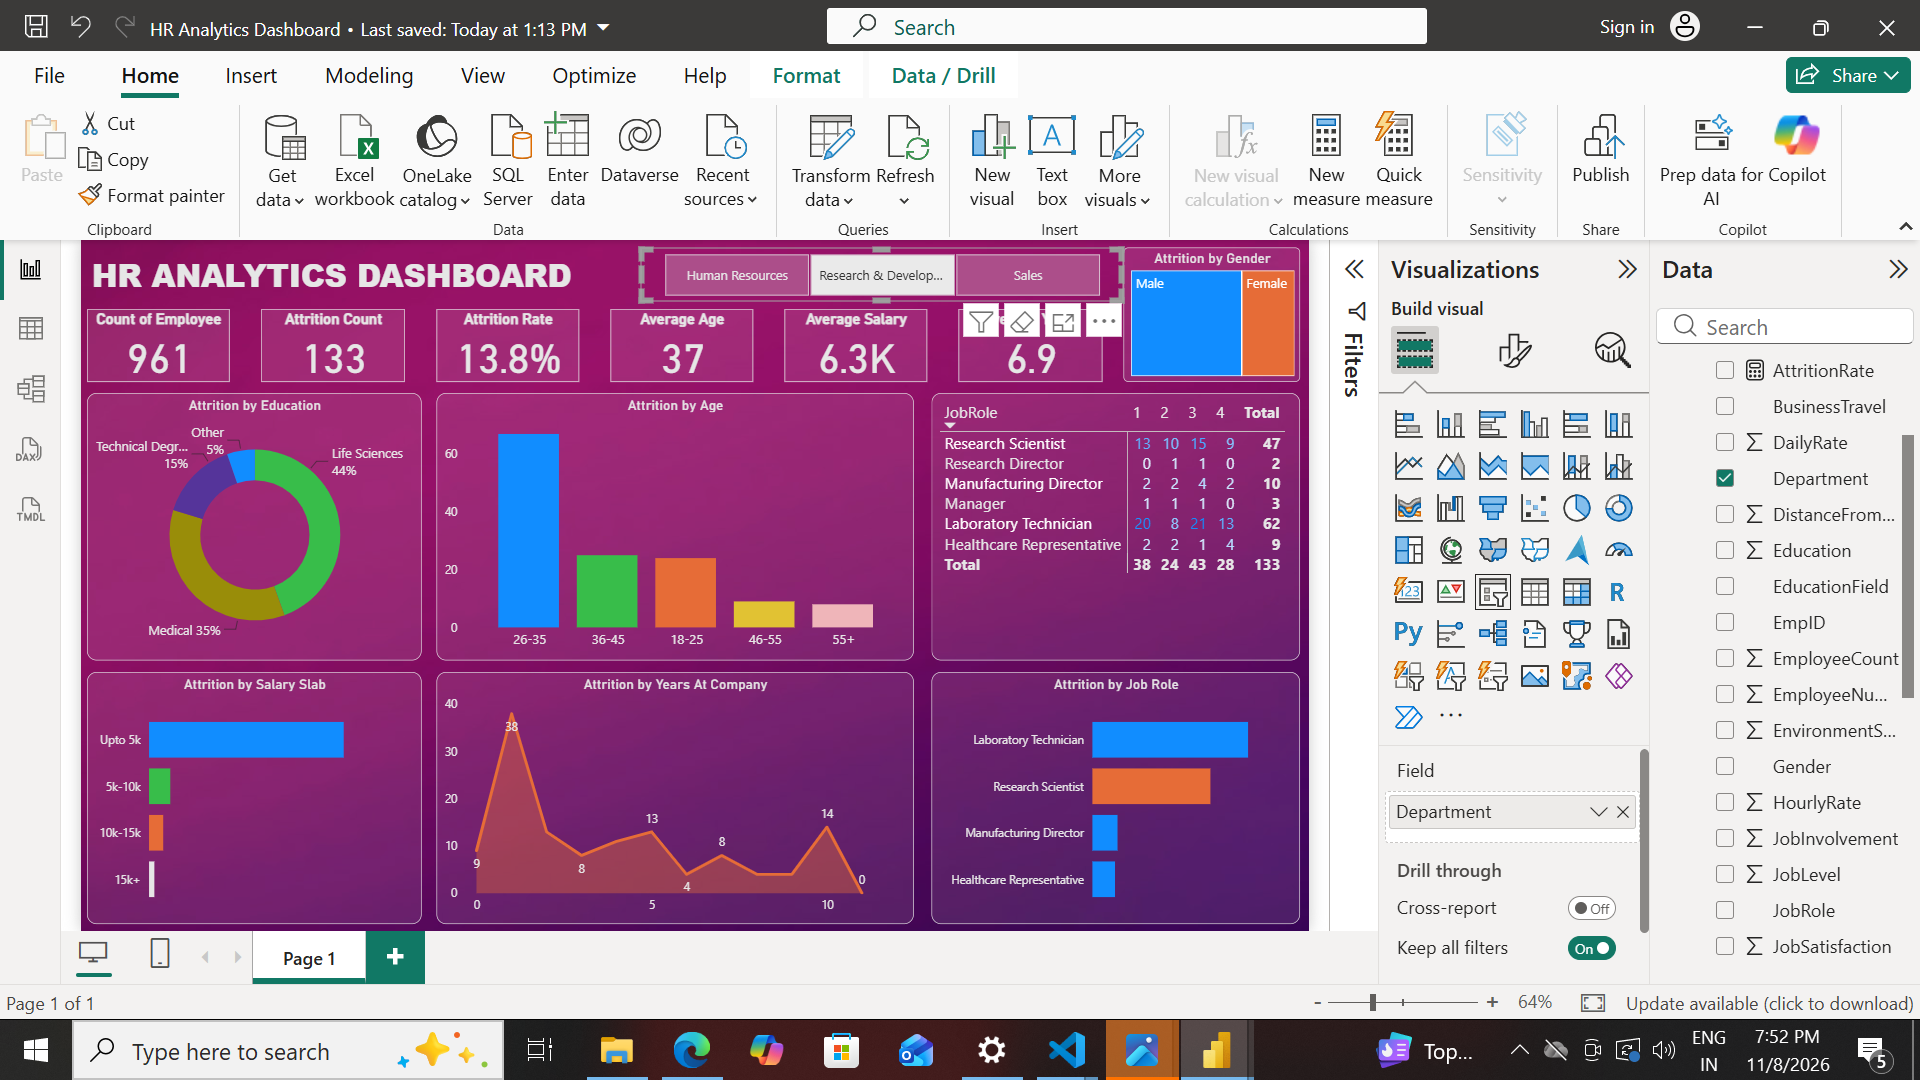

The dashboard page shown, as its layout file describes it:
{"tool":"powerbi","page":{"name":"Page 1","canvas":[1280,720],"ordinal":0},"visuals":[{"type":"card","title":"Count of Employee","fields":{"Values":["CountNonNull(HR_Analytics.EmployeeCount)"]},"box":[5.7,71.4,148.6,75.7],"z":0},{"type":"card","title":"Attrition Count","fields":{"Values":["Sum(HR_Analytics.AttritionCount)"]},"box":[187.1,71.4,150,75.7],"z":1000},{"type":"card","title":"Attrition Rate","fields":{"Values":["HR_Analytics.AttritionRate"]},"box":[370,71.4,148.6,75.7],"z":2000},{"type":"card","title":"Average Age","fields":{"Values":["Avg(HR_Analytics.Age)"]},"box":[551.4,71.4,148.6,75.7],"z":3000},{"type":"card","title":"Average Salary","fields":{"Values":["Avg(HR_Analytics.MonthlyIncome)"]},"box":[732.9,71.4,148.6,75.7],"z":4000},{"type":"card","title":"Average Years","fields":{"Values":["Avg(HR_Analytics.YearsAtCompany)"]},"box":[914.3,71.4,150,75.7],"z":5000},{"type":"donutChart","title":"Attrition by Education","fields":{"Category":["HR_Analytics.EducationField"],"Y":["Sum(HR_Analytics.AttritionCount)"]},"box":[5.7,160,348.6,278.6],"z":6000},{"type":"columnChart","title":"Attrition by Age","fields":{"Y":["Sum(HR_Analytics.AttritionCount)"],"Category":["HR_Analytics.AgeGroup"]},"box":[370,160,497.1,278.6],"z":7000},{"type":"pivotTable","fields":{"Rows":["HR_Analytics.JobRole"],"Columns":["HR_Analytics.JobSatisfaction"],"Values":["Sum(HR_Analytics.AttritionCount)"]},"box":[885.7,160,384.3,278.6],"z":8000},{"type":"barChart","title":"Attrition by Salary Slab","fields":{"Y":["Sum(HR_Analytics.AttritionCount)"],"Category":["HR_Analytics.SalarySlab"]},"box":[5.7,450,348.6,262.9],"z":9000},{"type":"barChart","title":"Attrition by Job Role","fields":{"Y":["Sum(HR_Analytics.AttritionCount)"],"Category":["HR_Analytics.JobRole"]},"box":[885.7,450,384.3,262.9],"z":10000},{"type":"areaChart","title":"Attrition by Years At Company","fields":{"Y":["Sum(HR_Analytics.AttritionCount)"],"Category":["HR_Analytics.YearsAtCompany"]},"box":[370,450,497.1,262.9],"z":11000},{"type":"treemap","title":"Attrition by Gender","fields":{"Values":["Sum(HR_Analytics.AttritionCount)"],"Group":["HR_Analytics.Gender"]},"box":[1085.7,7.1,184.3,140],"z":12000},{"type":"slicer","fields":{"Values":["HR_Analytics.Department"]},"box":[582.9,7.1,502.9,57.1],"z":13000},{"type":"textbox","box":[5.9,7.3,576.8,57.1],"z":14000}]}

Visuals, with their boxes on the page's 1280x720 design canvas (x1, y1, x2, y2). These are canvas units, not pixel positions in the 1920x1080 screenshot, which may show the page scaled, cropped or inside an application window:
"Count of Employee" card: detection(6, 71, 154, 147)
"Attrition Count" card: detection(187, 71, 337, 147)
"Attrition Rate" card: detection(370, 71, 519, 147)
"Average Age" card: detection(551, 71, 700, 147)
"Average Salary" card: detection(733, 71, 882, 147)
"Average Years" card: detection(914, 71, 1064, 147)
"Attrition by Education" donutChart: detection(6, 160, 354, 439)
"Attrition by Age" columnChart: detection(370, 160, 867, 439)
pivotTable - HR_Analytics.JobRole x HR_Analytics.JobSatisfaction: detection(886, 160, 1270, 439)
"Attrition by Salary Slab" barChart: detection(6, 450, 354, 713)
"Attrition by Job Role" barChart: detection(886, 450, 1270, 713)
"Attrition by Years At Company" areaChart: detection(370, 450, 867, 713)
"Attrition by Gender" treemap: detection(1086, 7, 1270, 147)
slicer - HR_Analytics.Department: detection(583, 7, 1086, 64)
textbox: detection(6, 7, 583, 64)
